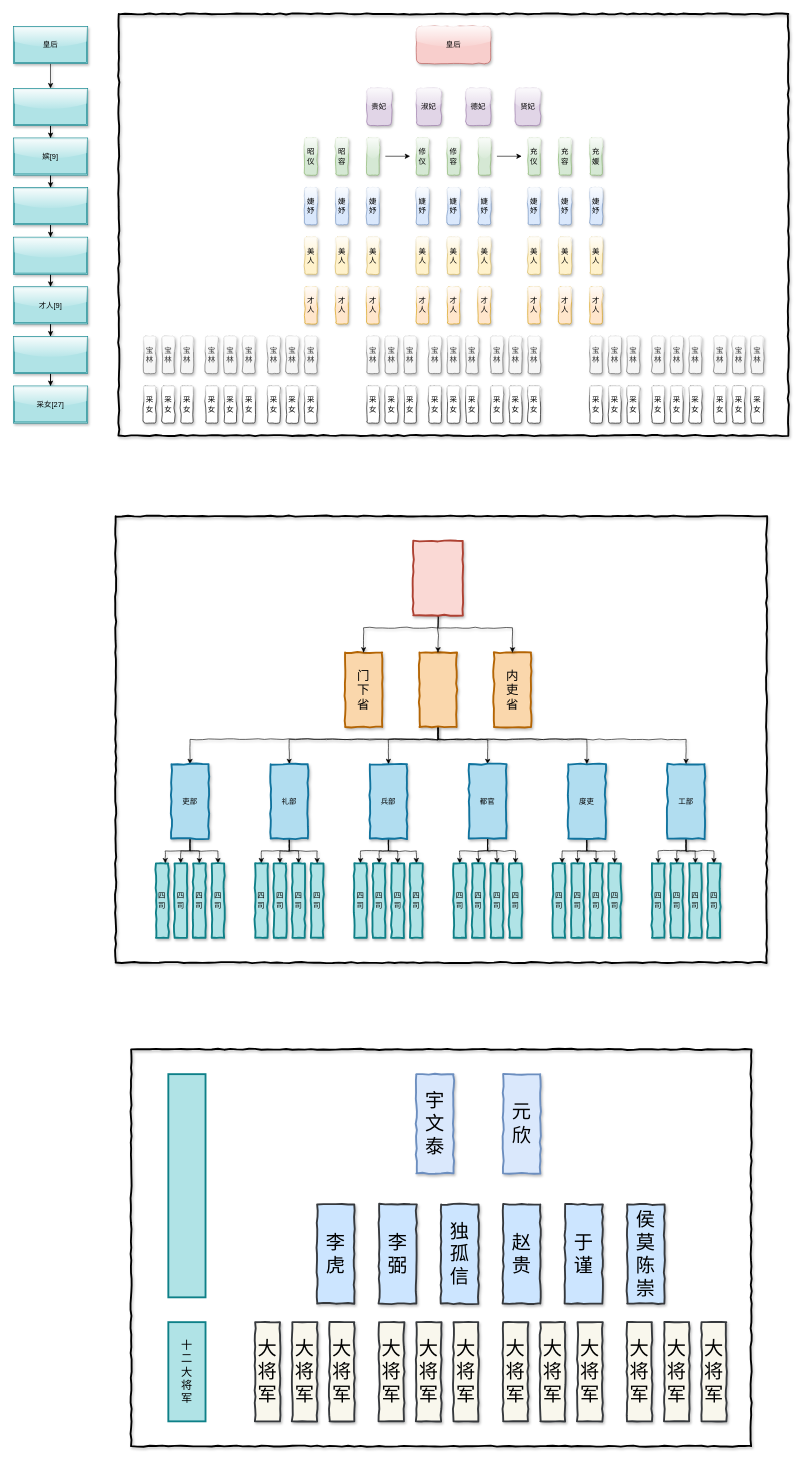
Some shapes in this 804 by 1462 pixel diagram are drawn without their labels. The centre of each missing label's shape, as x and y in pixels:
"修媛" goes at point 484,157.
"八 大 柱 国" goes at point 186,1185.
"妃[4]" goes at point 50,107.
"婕妤[9]" goes at point 50,206.
"宝林[27]" goes at point 50,355.
"尚 书 省" goes at point 438,690.
"招媛" goes at point 373,157.
"皇 帝" goes at point 438,578.
"美人[9]" goes at point 50,256.
